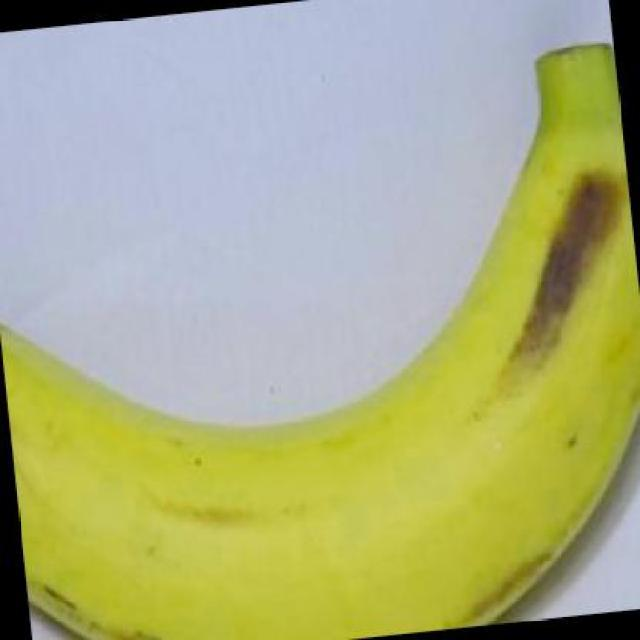unripe: (3, 22, 640, 640)
